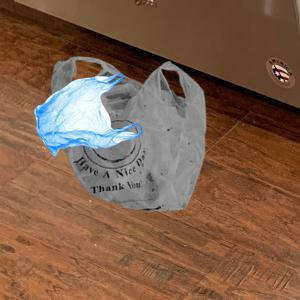plastic_bag: (28, 73, 144, 158)
